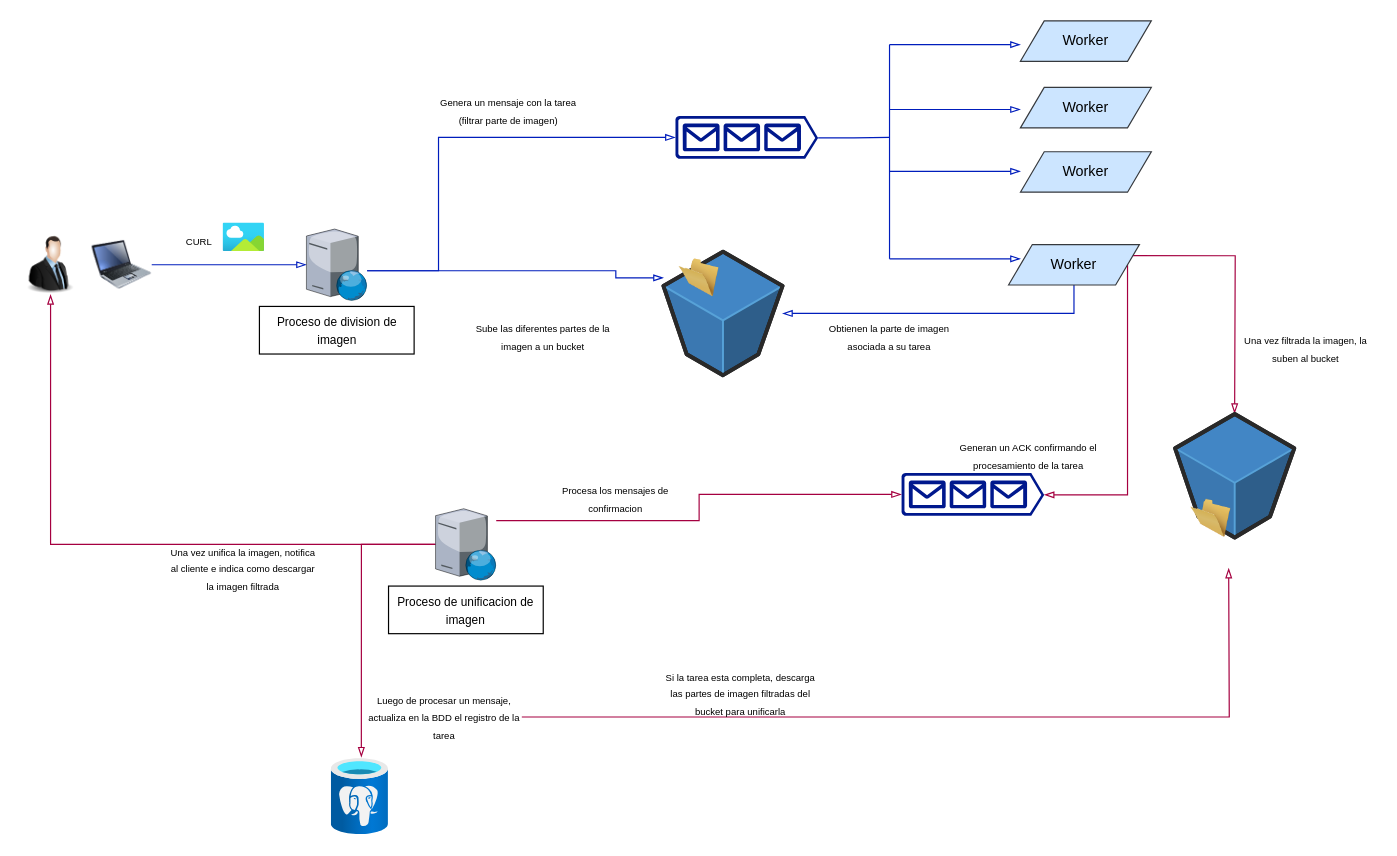
Some shapes in this 1397 by 856 pixel diagram are drawn without their labels. The box of each missing label's shape, as (x1, y1, x2, y2) in pixels:
post-filtrado: (1175, 499, 1246, 537)
pre-filtrado: (663, 258, 734, 296)
